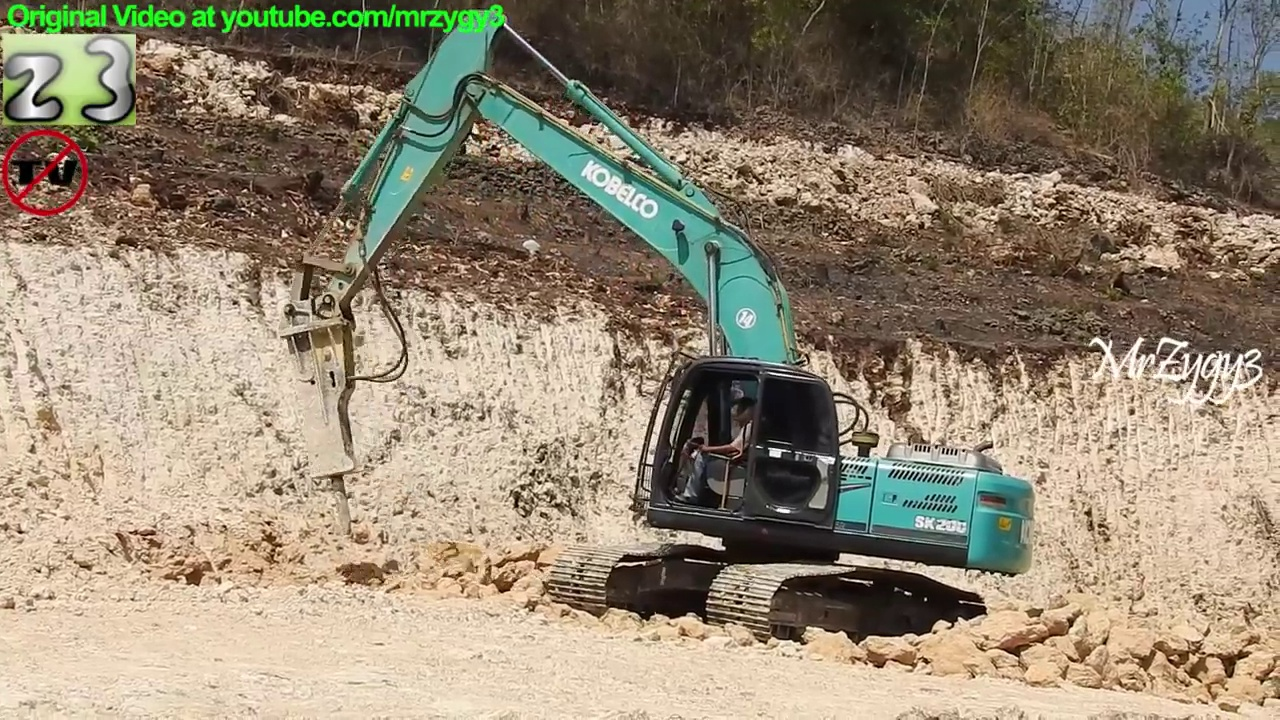excavator breaker: (269, 6, 1050, 672)
